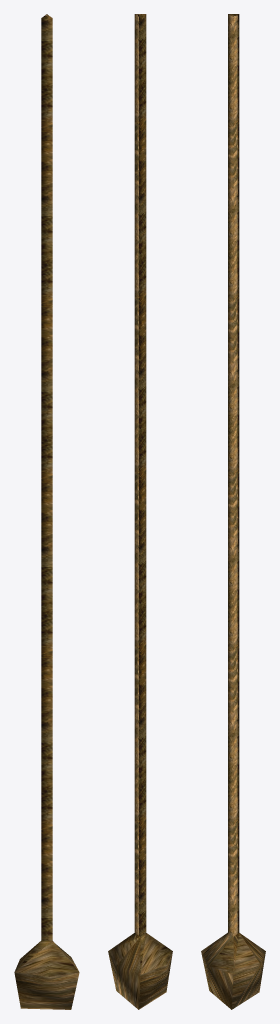
File: NW_MISC_HANGROPE.glb
3 renders of one model, left to right at view 1: azimuth 90°, elevation 25°; view 2: azimuth 150°, elevation 25°; view 3: azimuth 270°, elevation 25°, orthographic.
Visible parts, largest first — view 1: Mesh; view 2: Mesh; view 3: Mesh.
Boxes of the visible parts, x1=… form: Mesh: x1=14, y1=14, x2=79, y2=1009; Mesh: x1=108, y1=14, x2=172, y2=1009; Mesh: x1=201, y1=14, x2=265, y2=1009.
Bounding box in the file's own units: 0.2055 × 3.32 × 0.199.
Materials: 1 (1 with a texture image).
